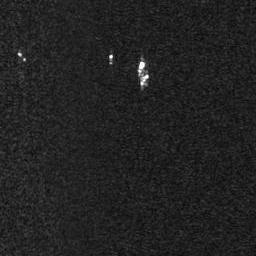ship: (136, 59, 145, 75), (141, 73, 149, 86)
